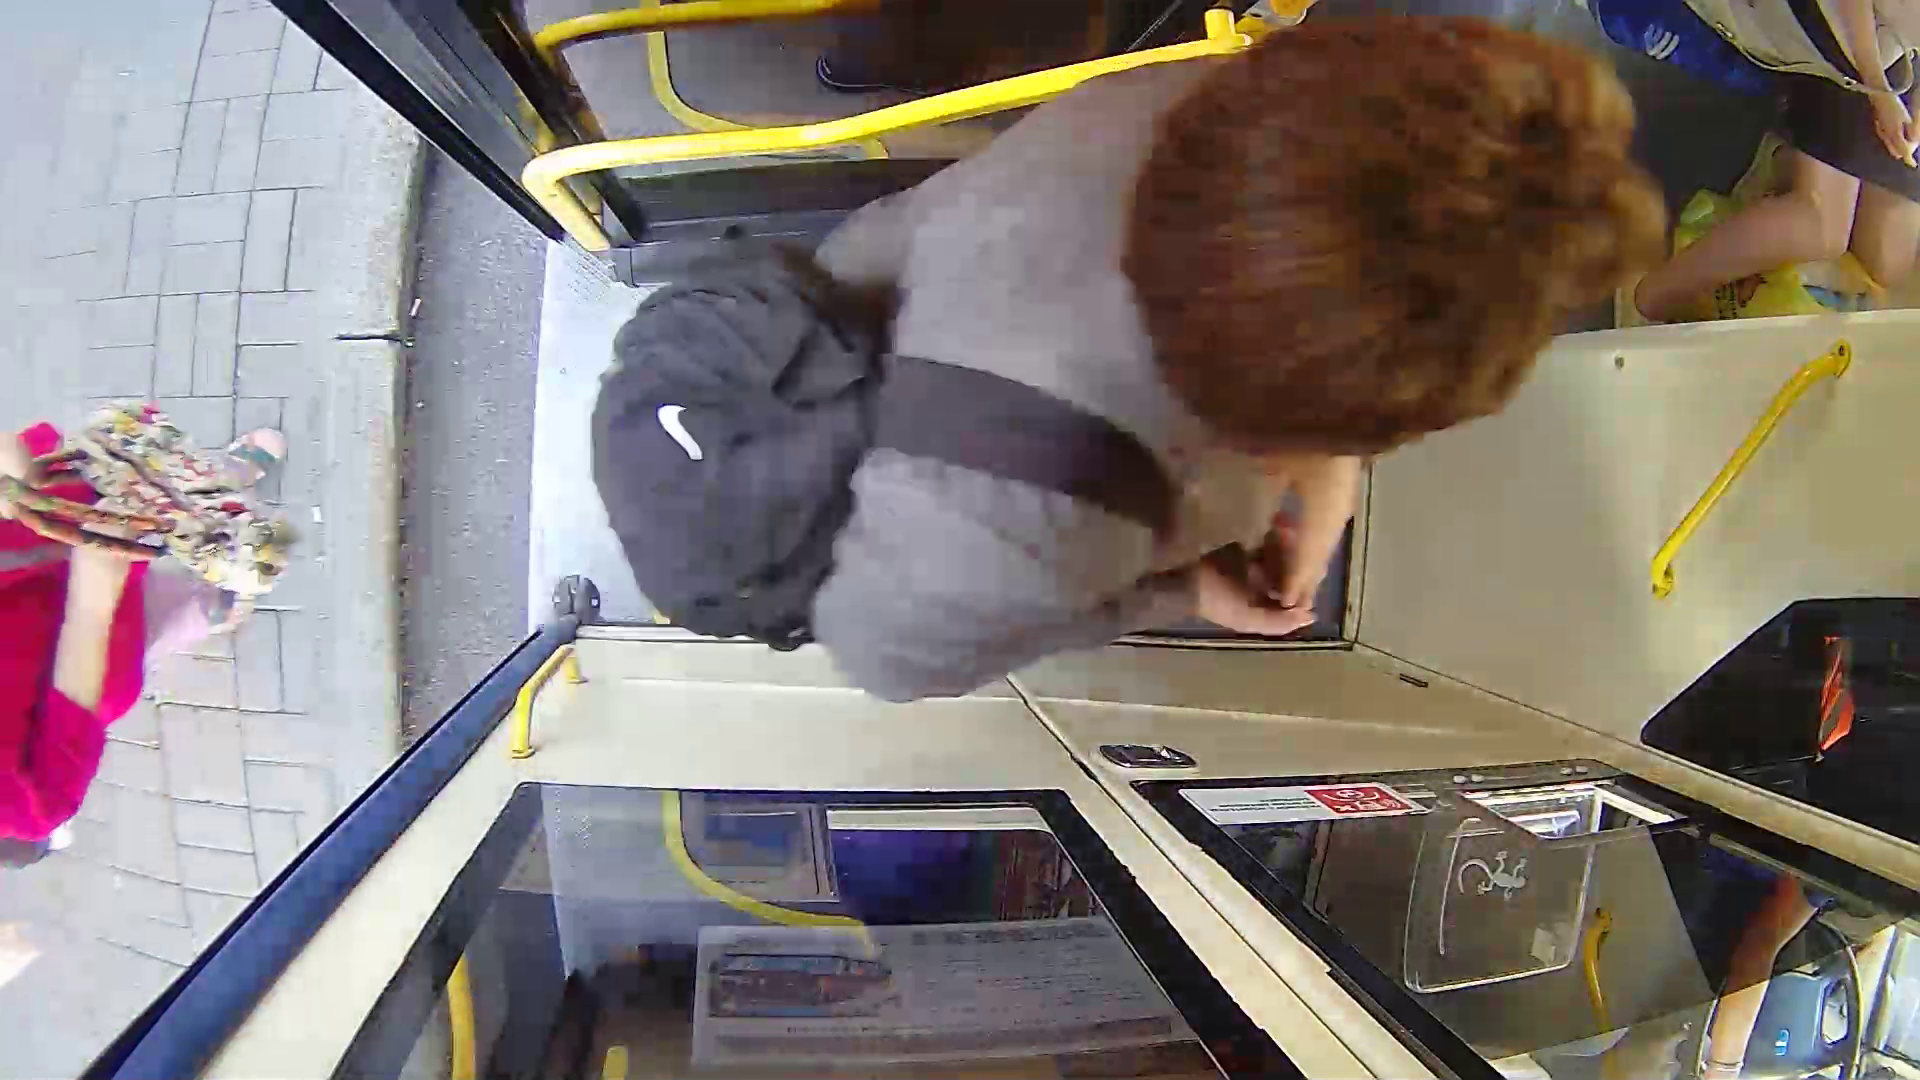person: (706, 22, 1647, 704)
